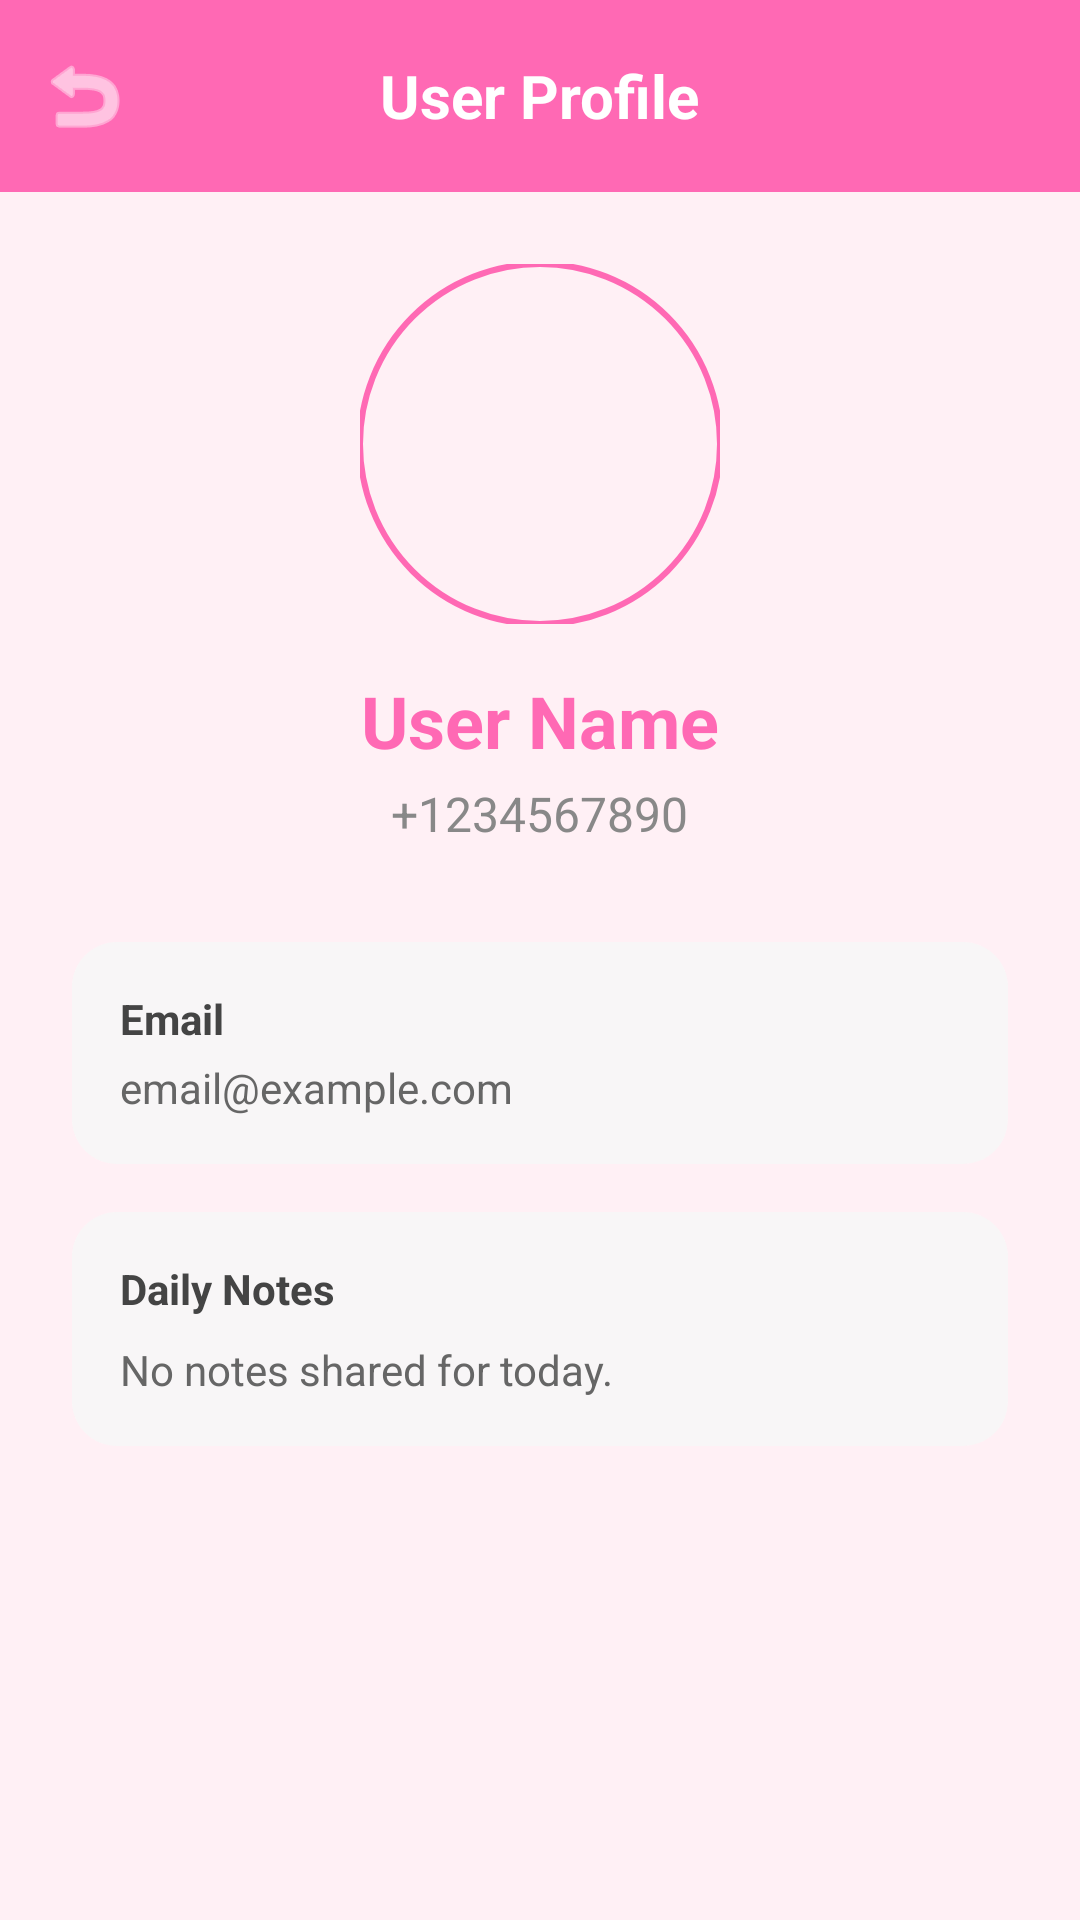

Locate icon controls on the screen. Image size 1080w x 1920h, boxes as [x1=x1, y1=y1, x2=x2, y2=y2].
revert: [x1=51, y1=66, x2=120, y2=128]
